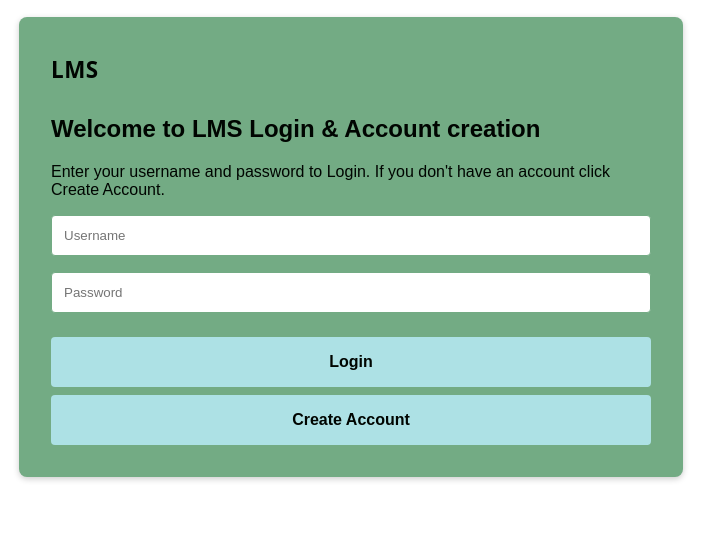
shows error message when login fails
Type "notarealuser" into the field with placeholder "Username" at (351, 235), box [51, 215, 651, 256]
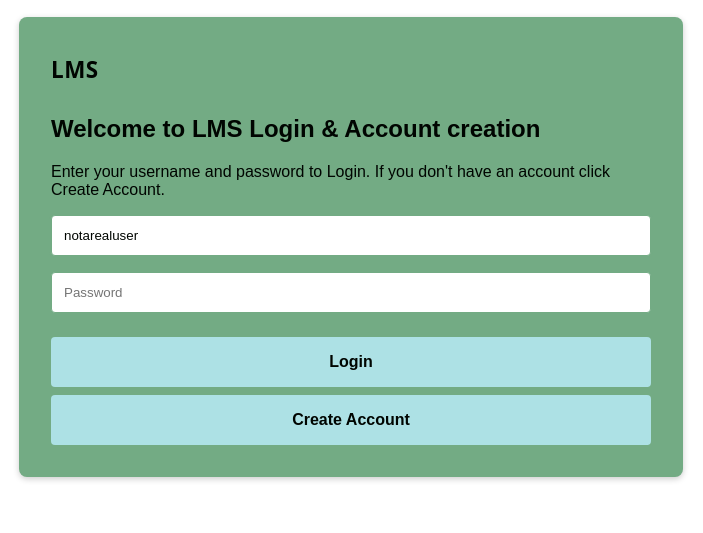
Type "notarealpassword" into the password field with placeholder "Password" at (351, 292), box [51, 272, 651, 313]
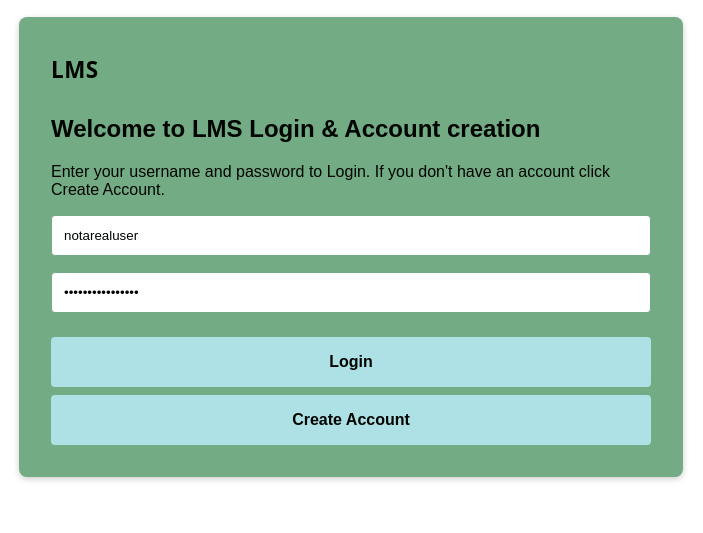
Click the button "Login" at (351, 362), box [51, 337, 651, 387]
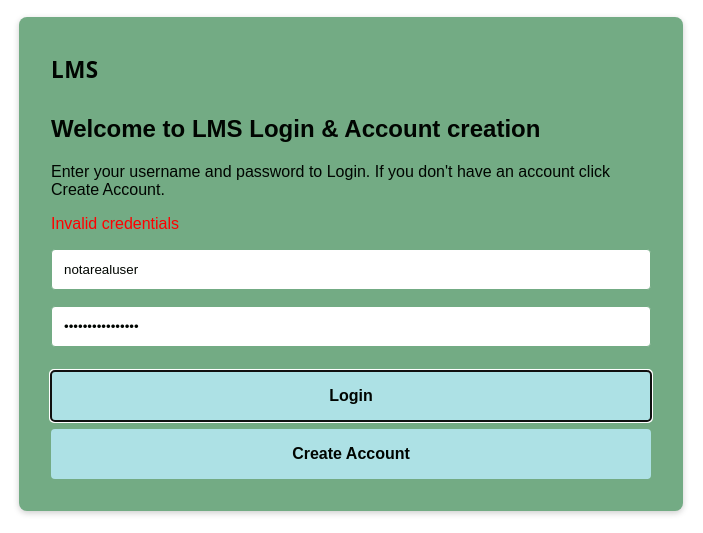
Now the text "Invalid credentials" is shown, box [51, 215, 179, 232]
